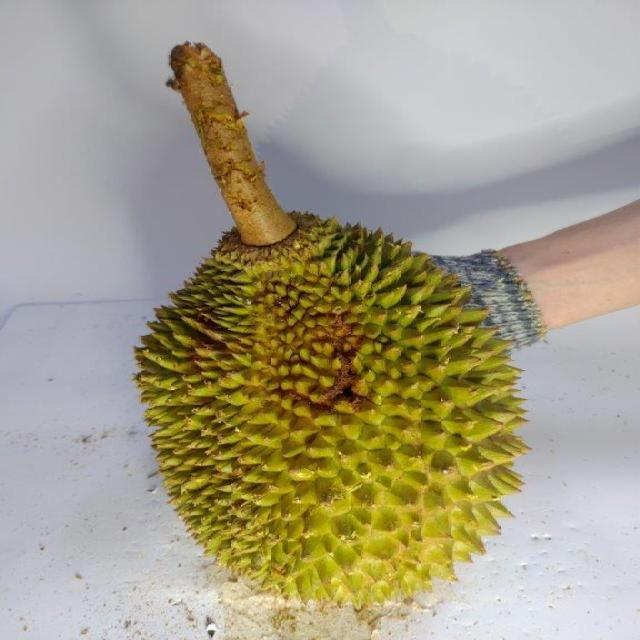defective: (127, 209, 526, 603)
